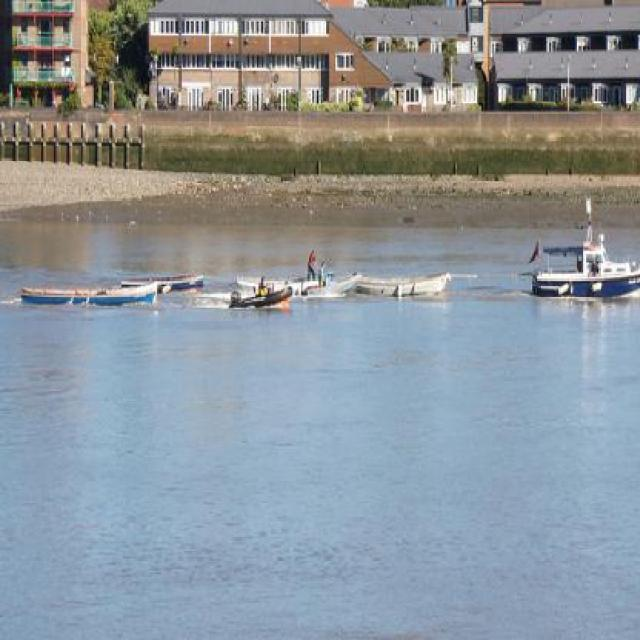ship: (531, 229, 638, 297), (19, 272, 156, 302), (232, 263, 360, 295), (354, 261, 451, 294), (117, 265, 203, 290), (227, 283, 291, 308)
